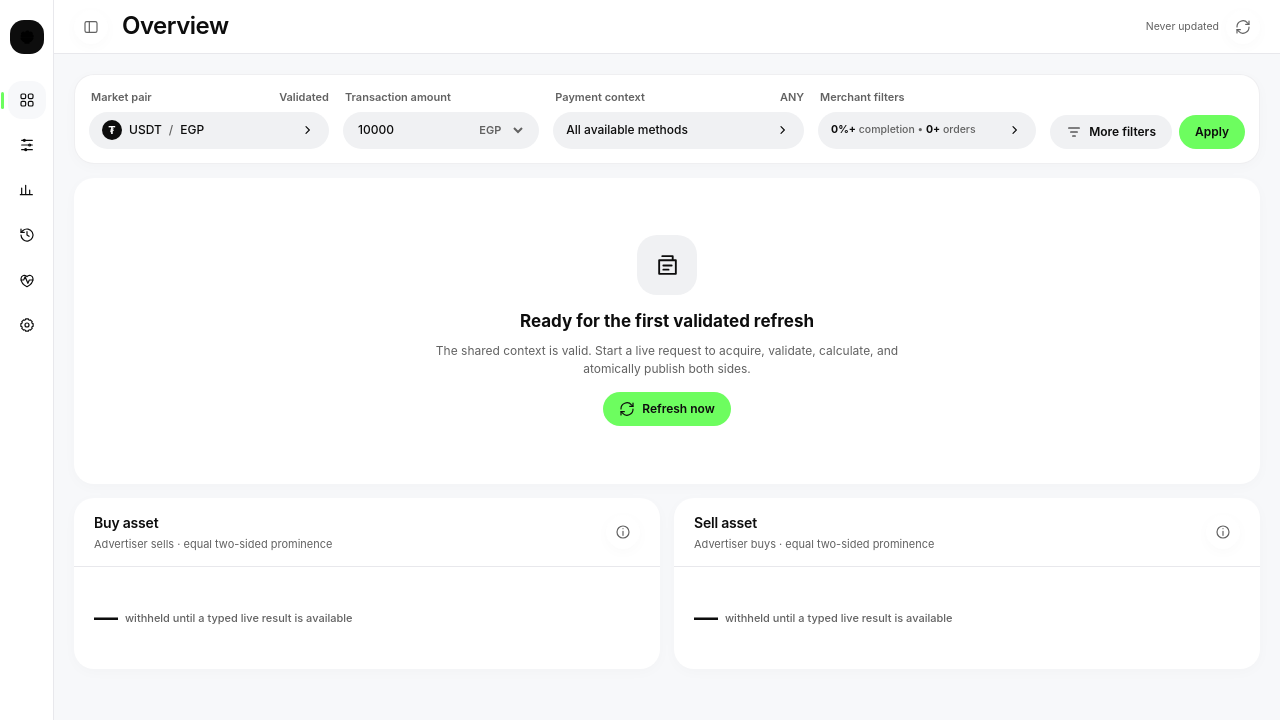
Test case: approved application shell › toggles the accessible sidebar state without changing the current page
Expected: the heading "Ready for the first validated refresh" is shown, [520,311,814,331]
Click the button named "Expand sidebar" at (91, 26), box [74,10,108,44]
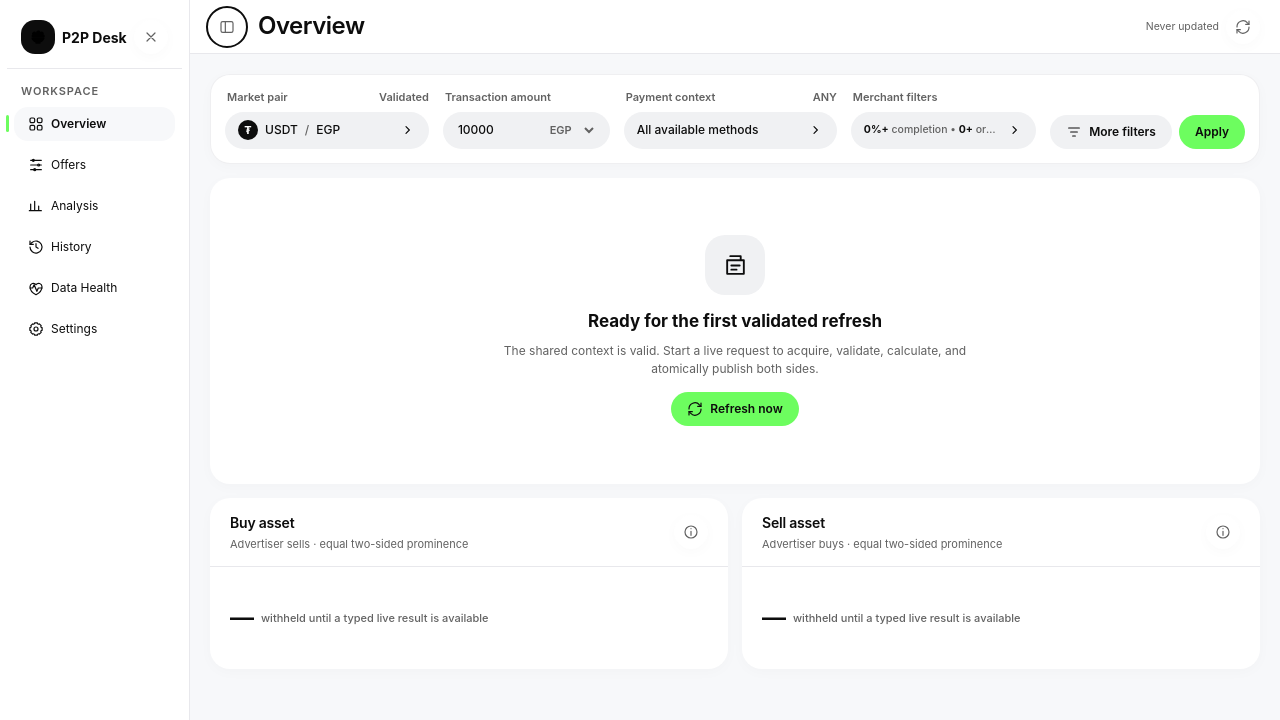
Expected: the button named "Collapse sidebar" is expanded, [210,10,244,44]
